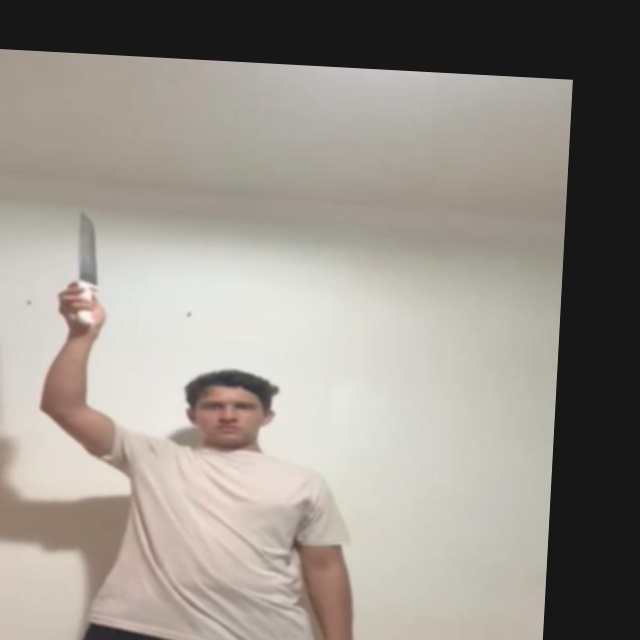Sharp-Object: (74, 211, 102, 279)
